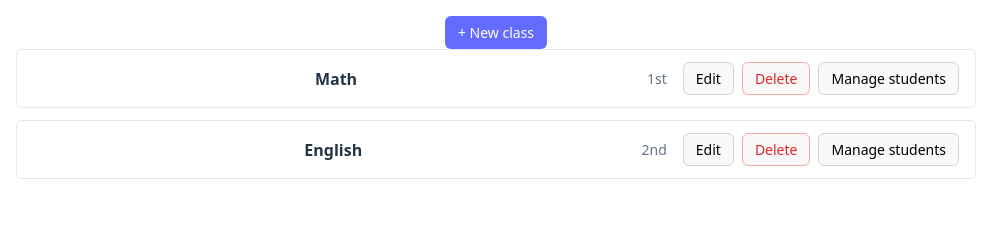
Test case: ClassManagementView — new class form › shows the form after clicking '+ New class'
This screenshot has width=993, height=241.
Click the button "+ New class".
click(496, 32)  # box x1=445 y1=16 x2=547 y2=49
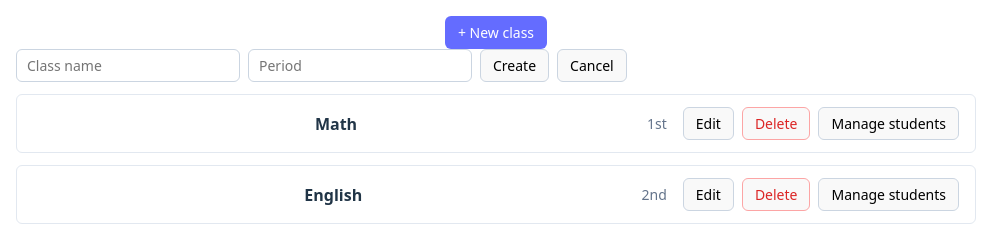
Check: the form with class "inline-form" is shown, box x1=16 y1=49 x2=627 y2=82
